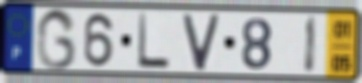6: (82, 11, 116, 70)
8: (241, 16, 274, 71)
G: (34, 7, 78, 72)
I: (302, 14, 319, 76)
L: (136, 12, 173, 72)
V: (180, 12, 223, 73)
